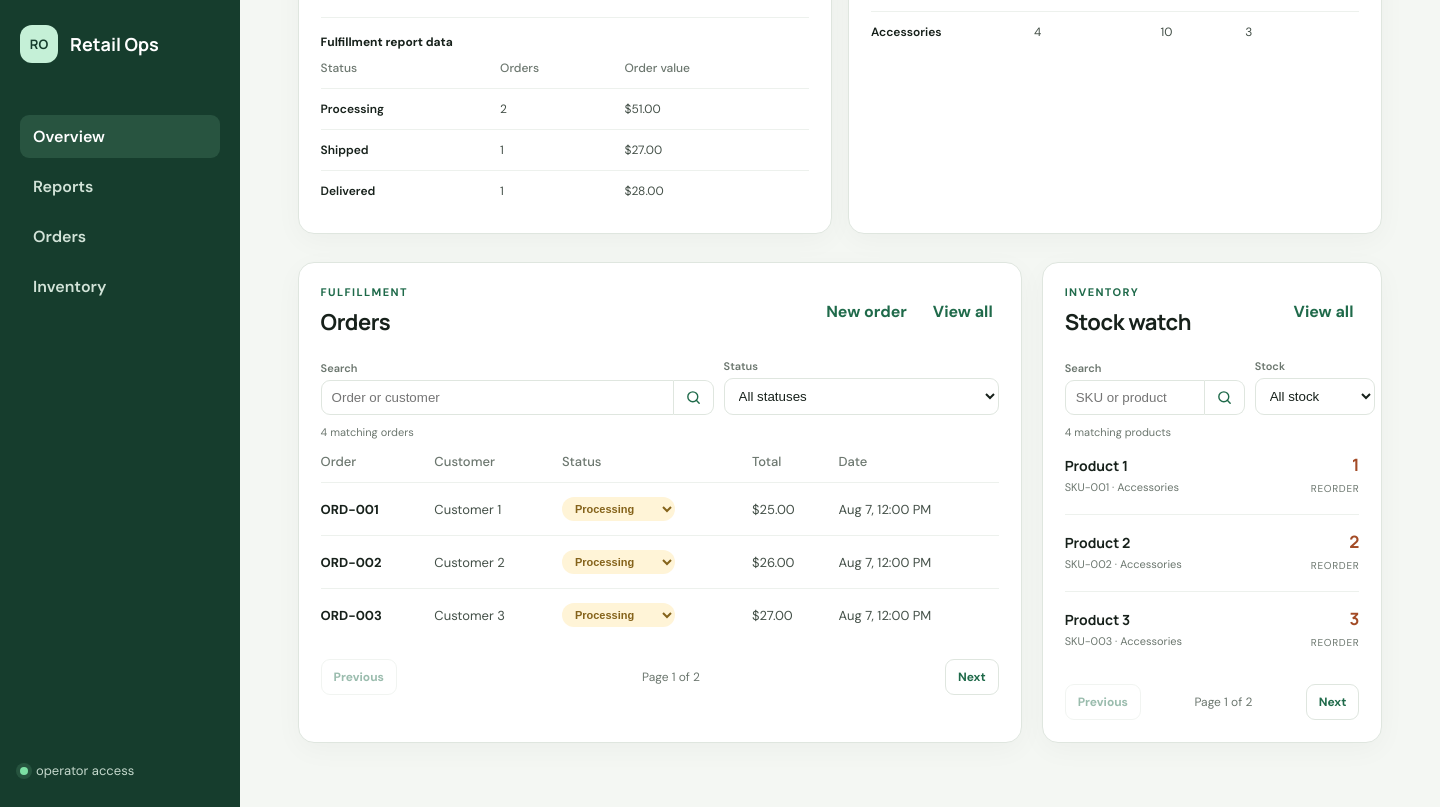
App › requests the next inventory page
(page scrolled)
Expected: the heading "Product 1" is shown, [1065, 456, 1128, 475]
Step 1. Click the button "Next" below "SKU-003" → (1333, 702), box [1306, 684, 1359, 720]
(page scrolled)
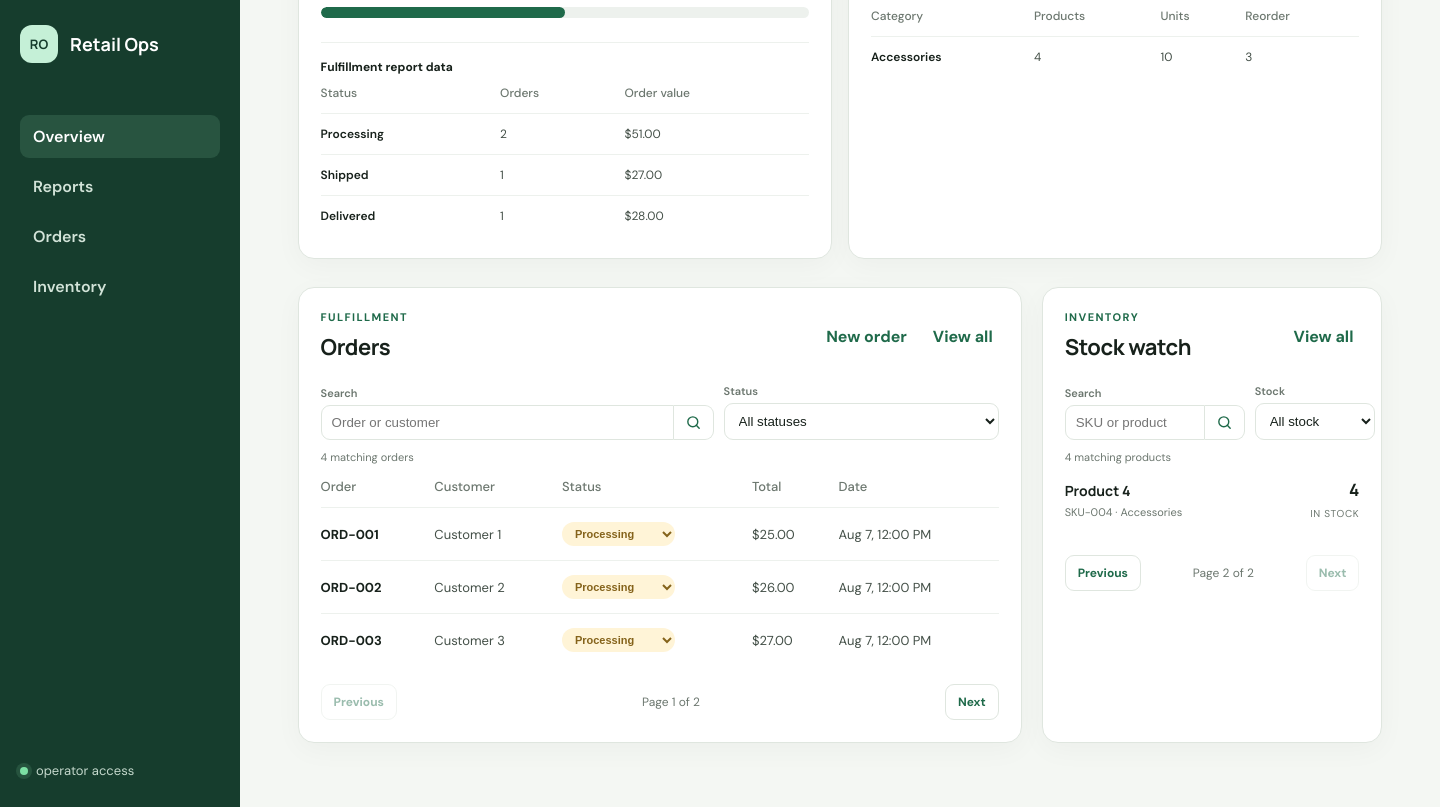
Now the heading "Product 4" is shown, box [1065, 481, 1131, 500]
Now the navigation bar named "Products pagination" shows "Page 2 of 2", box [1065, 555, 1360, 591]
